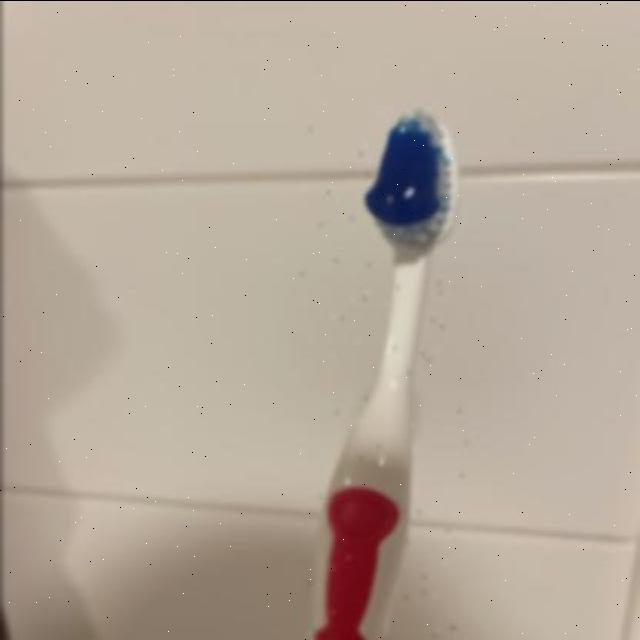toothbrush: (298, 105, 468, 640)
